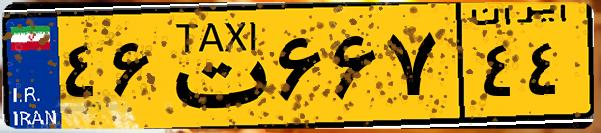4: (57, 26, 110, 100), (475, 38, 525, 113), (525, 38, 570, 115)
6: (270, 28, 330, 110), (330, 28, 385, 110), (110, 28, 158, 98)
7: (385, 28, 445, 110)
ت: (158, 12, 270, 120)
